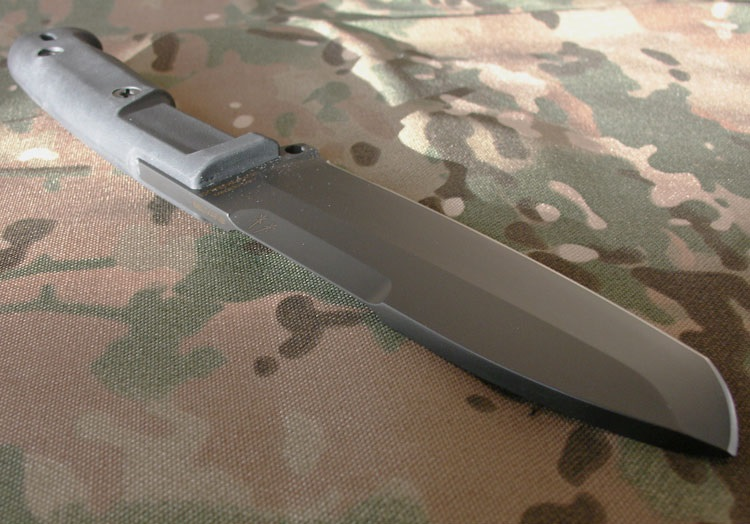knife: (165, 127, 750, 480)
